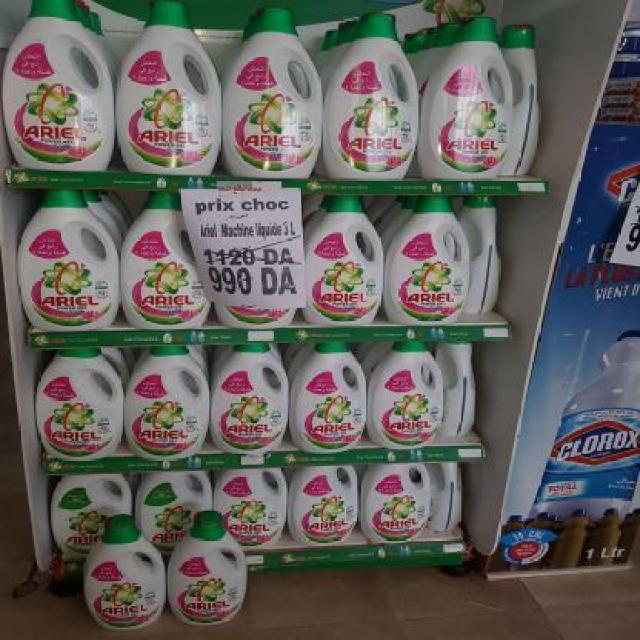Detergent: (0, 0, 111, 168), (118, 0, 224, 174), (225, 6, 322, 179), (322, 12, 422, 177), (417, 12, 517, 177), (13, 188, 118, 329), (117, 188, 203, 329), (296, 191, 387, 323), (37, 338, 125, 462), (390, 191, 470, 324), (78, 516, 173, 626), (164, 512, 250, 623), (125, 346, 208, 457), (208, 343, 289, 454), (289, 340, 369, 451), (369, 342, 445, 453), (283, 460, 359, 545), (362, 456, 428, 542), (214, 468, 284, 548)
